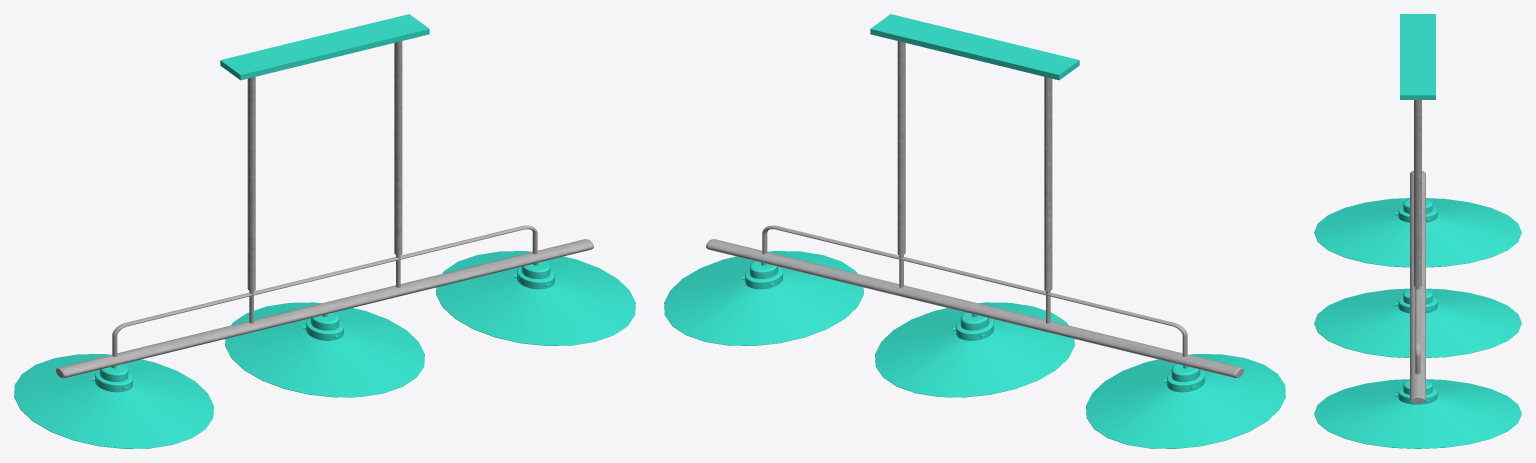
Rendered from 8lamp_w100_h50_d35_703KB.glb.
3 renders of one model, left to right at view 1: azimuth 30°, elevation 25°; view 2: azimuth 150°, elevation 25°; view 3: azimuth 270°, elevation 25°, orthographic. The views are drawn at different scales.
Parts seen in each view (by area): view 1: root; view 2: root; view 3: root.
Boxes of the visible parts, left/top/right/bottom form: root: left=14, top=14, right=635, bottom=448; root: left=664, top=14, right=1285, bottom=448; root: left=1314, top=14, right=1521, bottom=448.
Size of the model in its own units: 1 by 0.5 by 0.35.
Materials: 5 (1 with a texture image).
